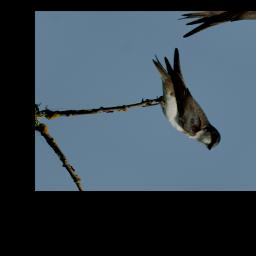Swallow: (116, 42, 256, 152)
